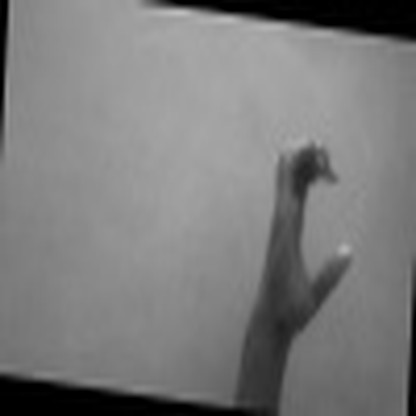c: (255, 116, 355, 319)
